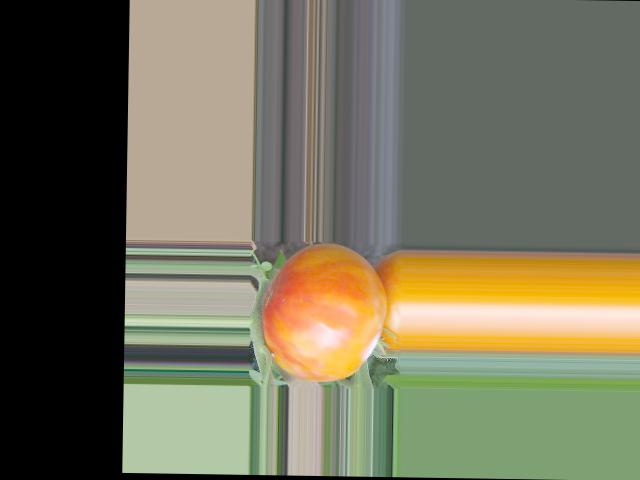tomato: (261, 242, 386, 382)
